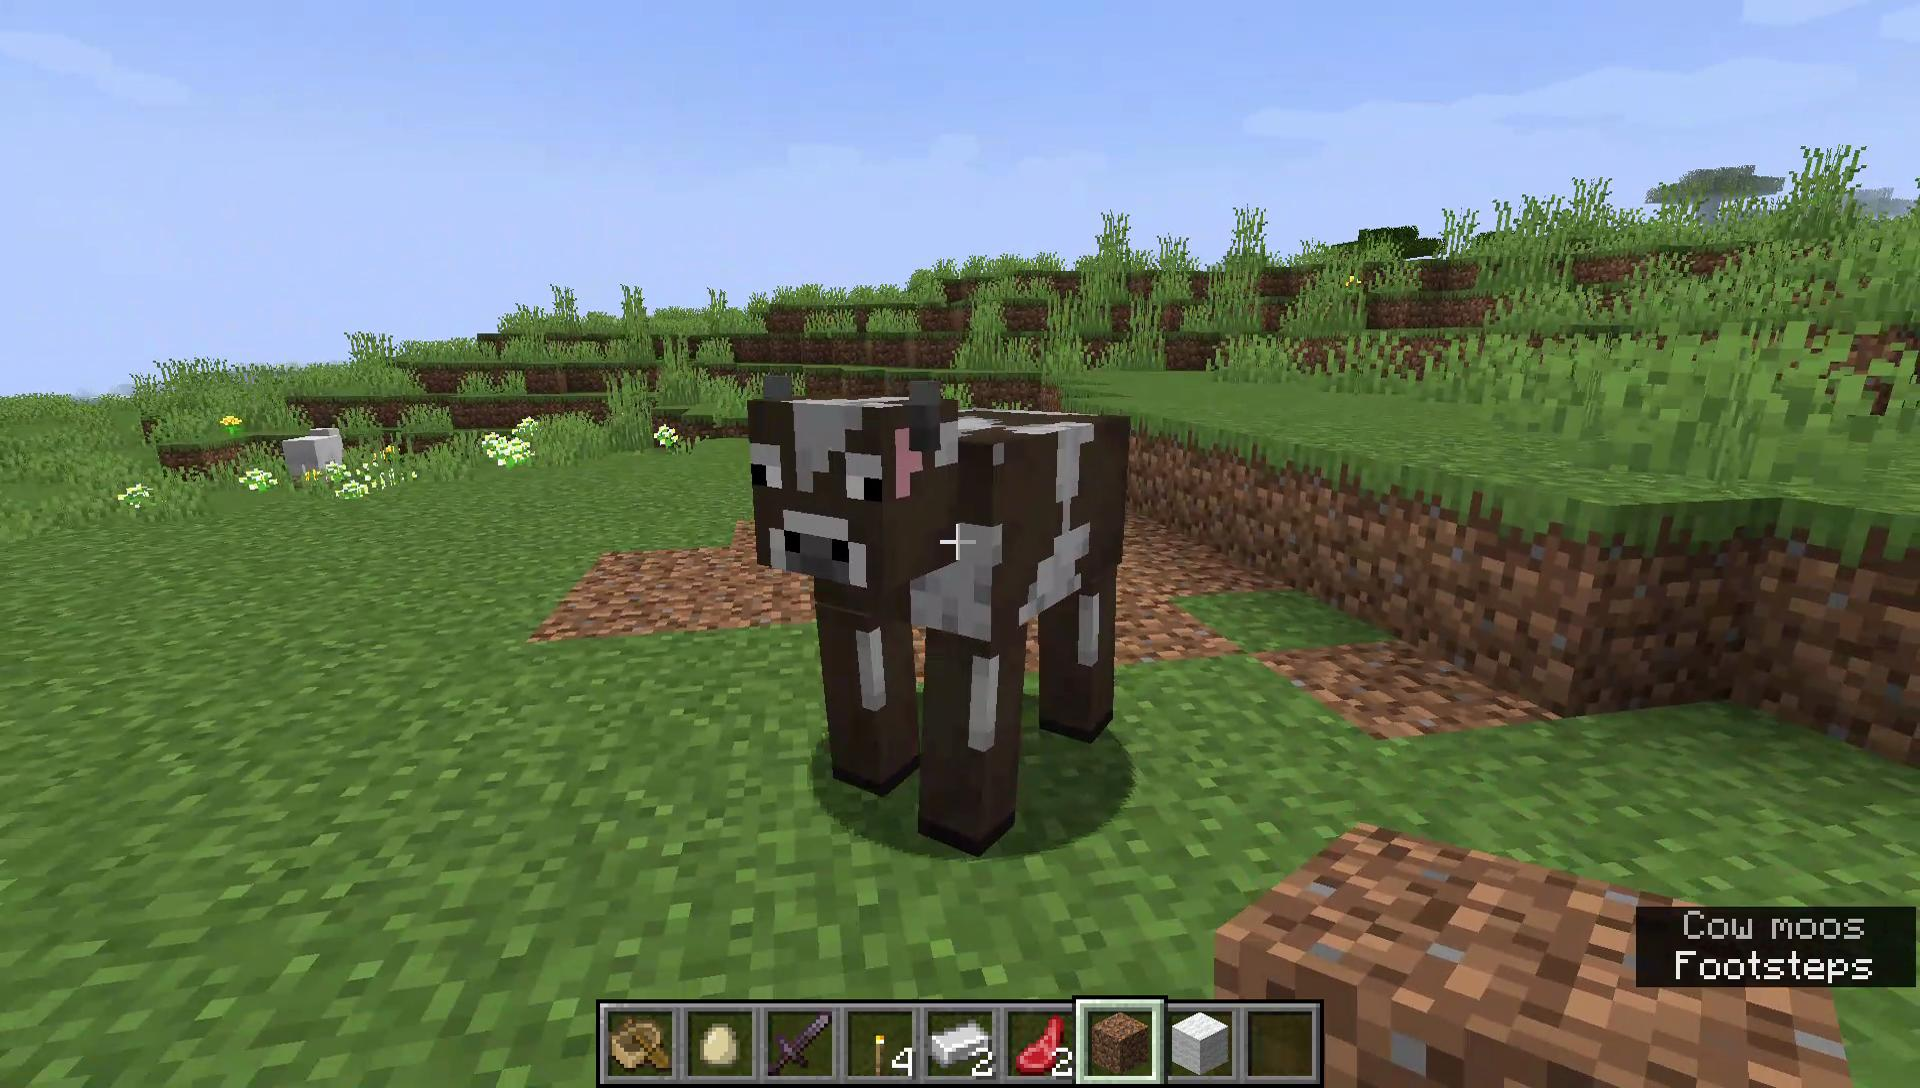cow: (735, 361, 1137, 860)
sheep: (282, 422, 349, 488)
